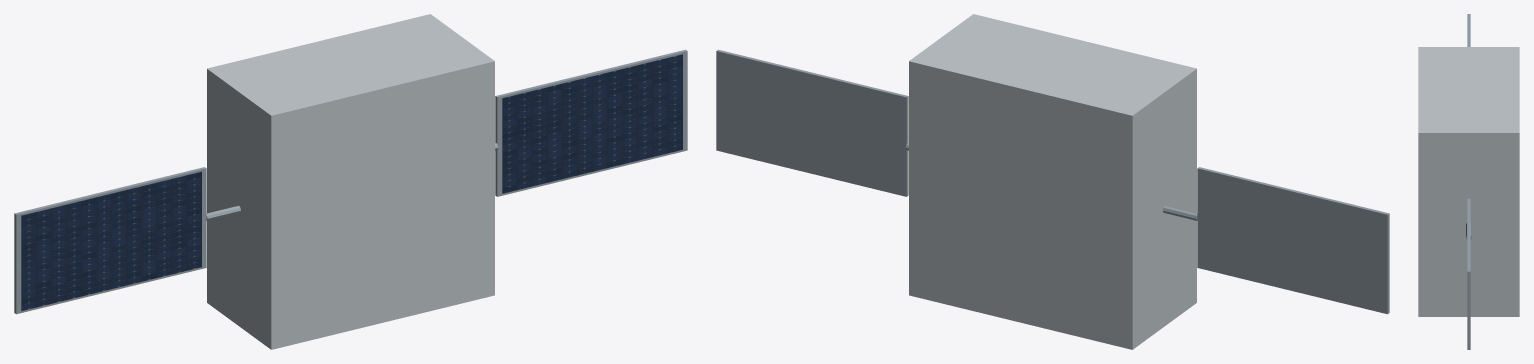
The model's file is ref-thinsat-0-5u-68443.glb.
3 renders of one model, left to right at view 1: azimuth 30°, elevation 25°; view 2: azimuth 150°, elevation 25°; view 3: azimuth 270°, elevation 25°, orthographic. The views are drawn at different scales.
Visible parts, largest first — view 1: Spacecraft body, Photovoltaic laminates (×2), Array frame (×2); view 2: Spacecraft body, Array frame (×2); view 3: Spacecraft body, Array frame (×2).
Boxes of the visible parts, x1,y1,x2,y2 form: Spacecraft body: [207, 14, 494, 349]; Photovoltaic laminates (×2): [21, 54, 682, 310]; Array frame (×2): [14, 49, 687, 314]; Spacecraft body: [909, 14, 1196, 349]; Array frame (×2): [716, 49, 1389, 314]; Spacecraft body: [1418, 47, 1519, 316]; Array frame (×2): [1467, 14, 1470, 349].
Size of the model in its own units: 0.3 by 0.1 by 0.05.
Materials: 3 (1 with a texture image).
